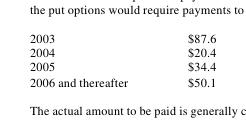table: (28, 29, 215, 89)
table column: (28, 29, 157, 89), (157, 29, 215, 89)
table row: (28, 73, 215, 89), (28, 29, 215, 44), (28, 58, 215, 73), (28, 44, 215, 58)
